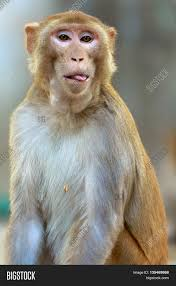monkey: (12, 15, 173, 259)
